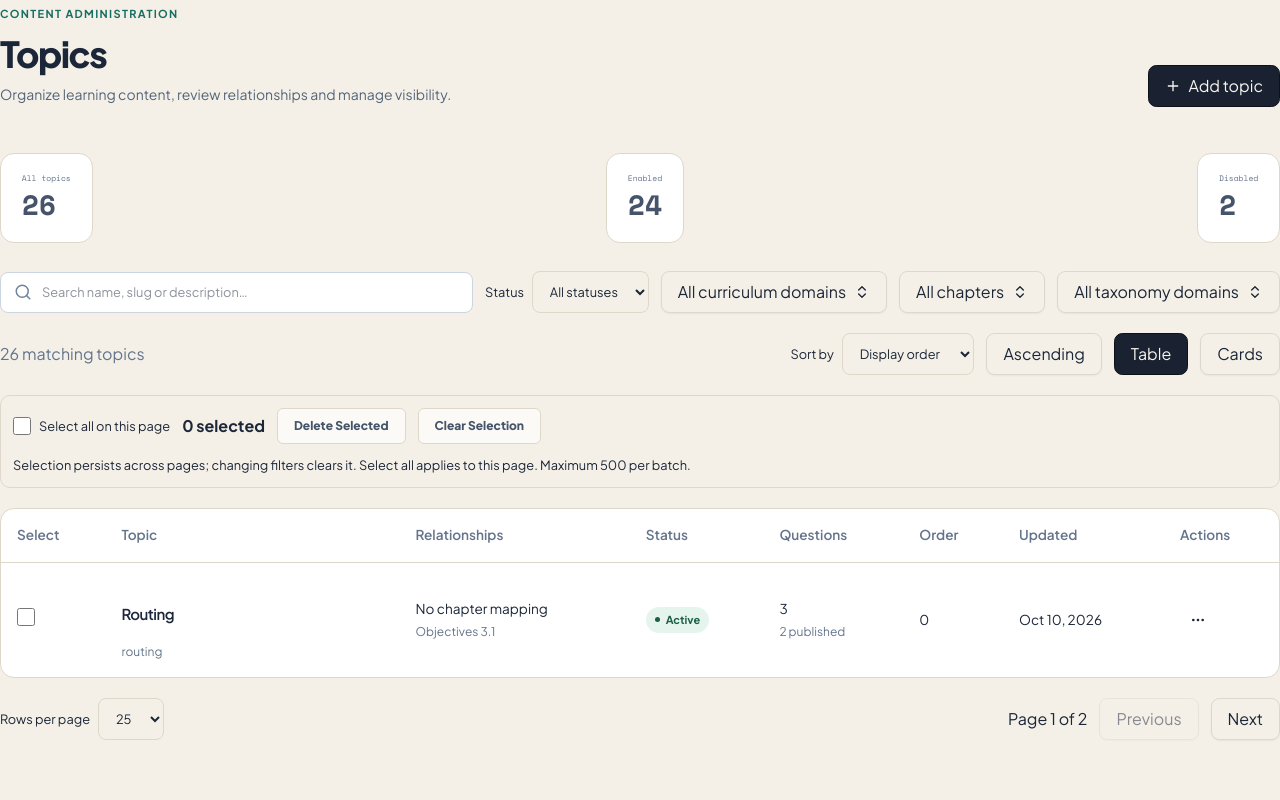
Test: shows dependency preview then reports BLOCKED without silently archiving
Click the checkbox named "Select topic 11111111-1111-4111-8111-111111111111".
click(26, 617)  # box [17,608,35,626]
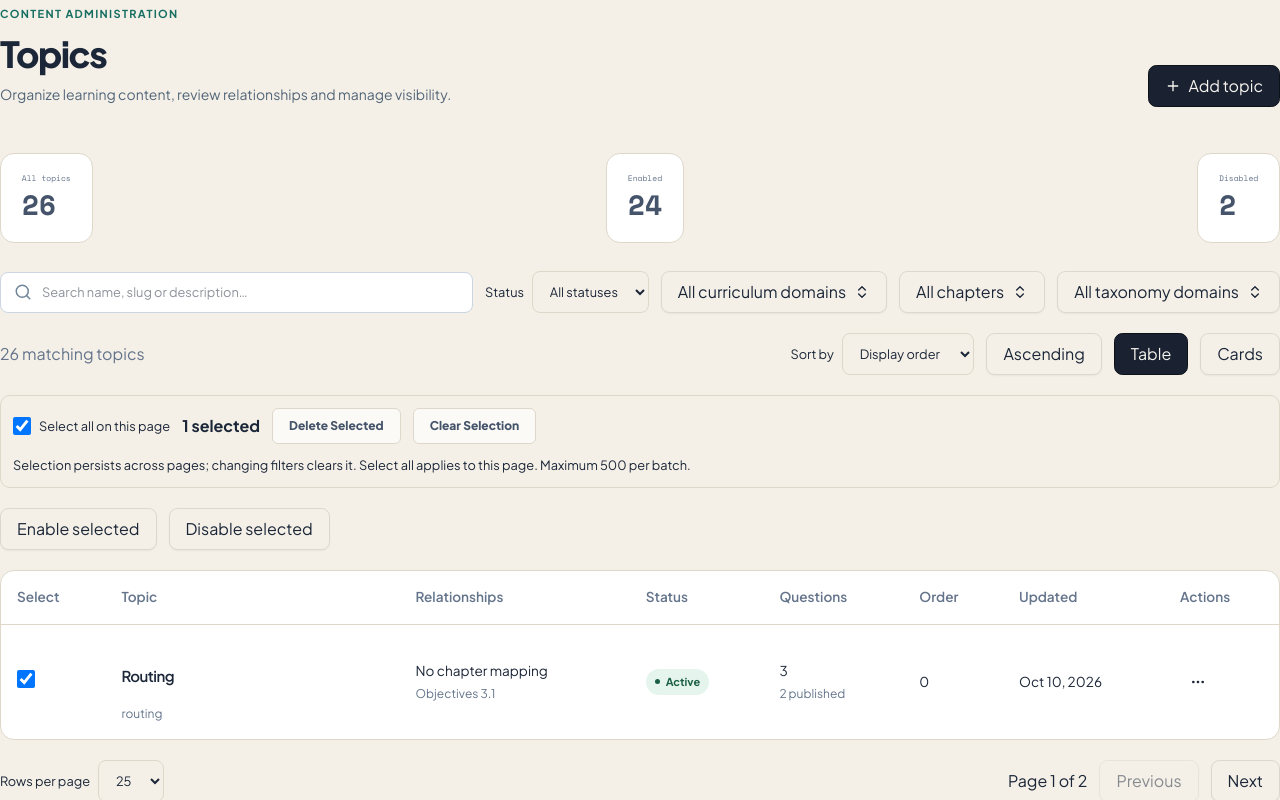
Click the button "Delete Selected".
click(336, 426)  # box [272,408,401,444]
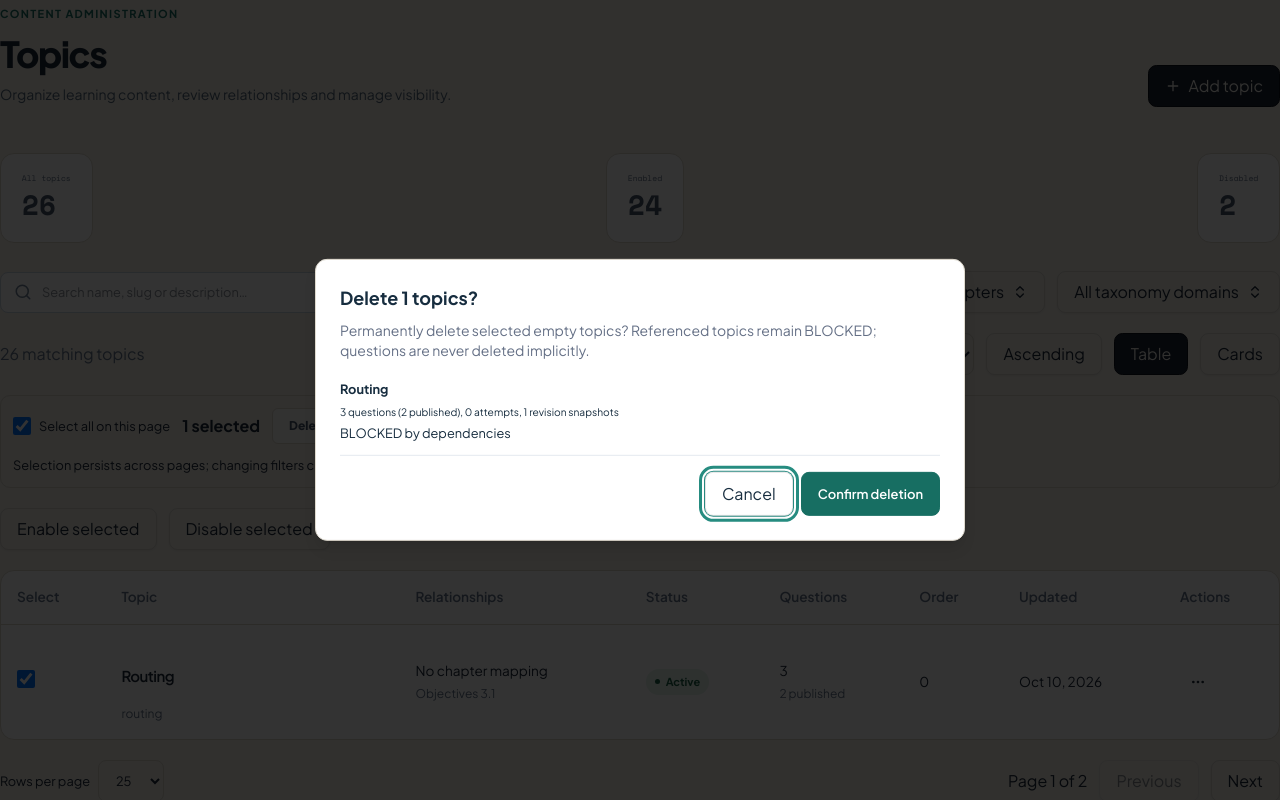
Check: the text "3 questions (2 published), 0 attempts, 1 revision snapshots" is shown, box [340,405,619,418]
Click the button "Confirm deletion".
click(870, 494)  # box [801,472,940,516]
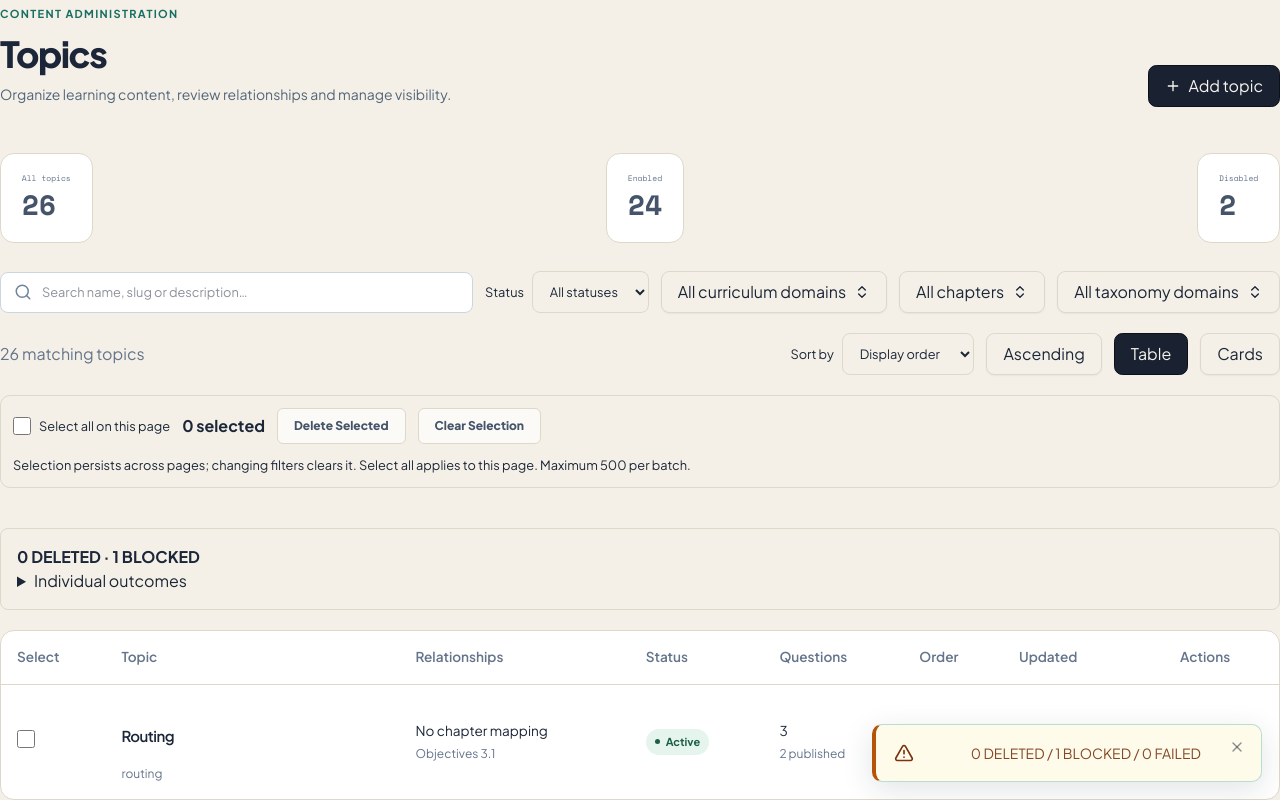
Check: the text "Routing" is shown, box [121,718,174,754]
Check: the text "0 DELETED" is shown, box [971,744,1201,762]
Check: the text "1 BLOCKED" is shown, box [971,744,1201,762]
